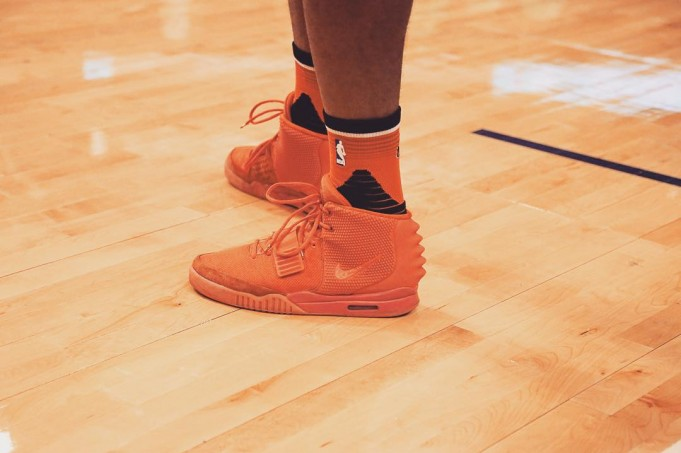Yeezy Red October: (174, 170, 428, 332), (222, 94, 364, 216)
